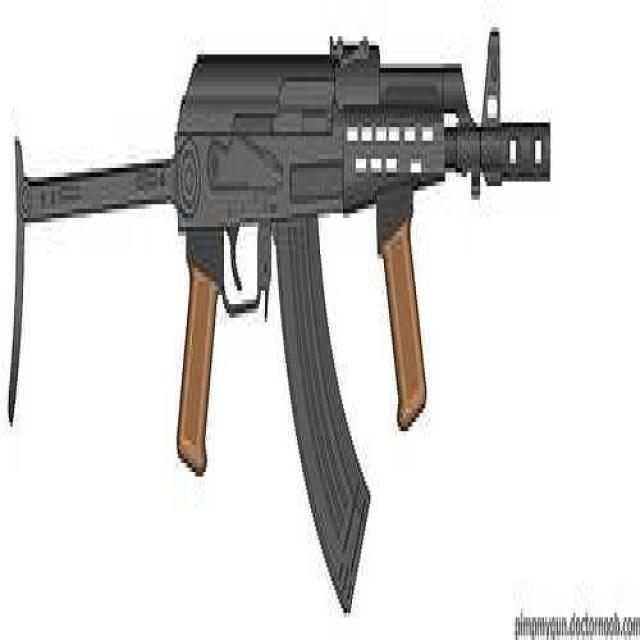Rifle: (4, 18, 552, 608)
